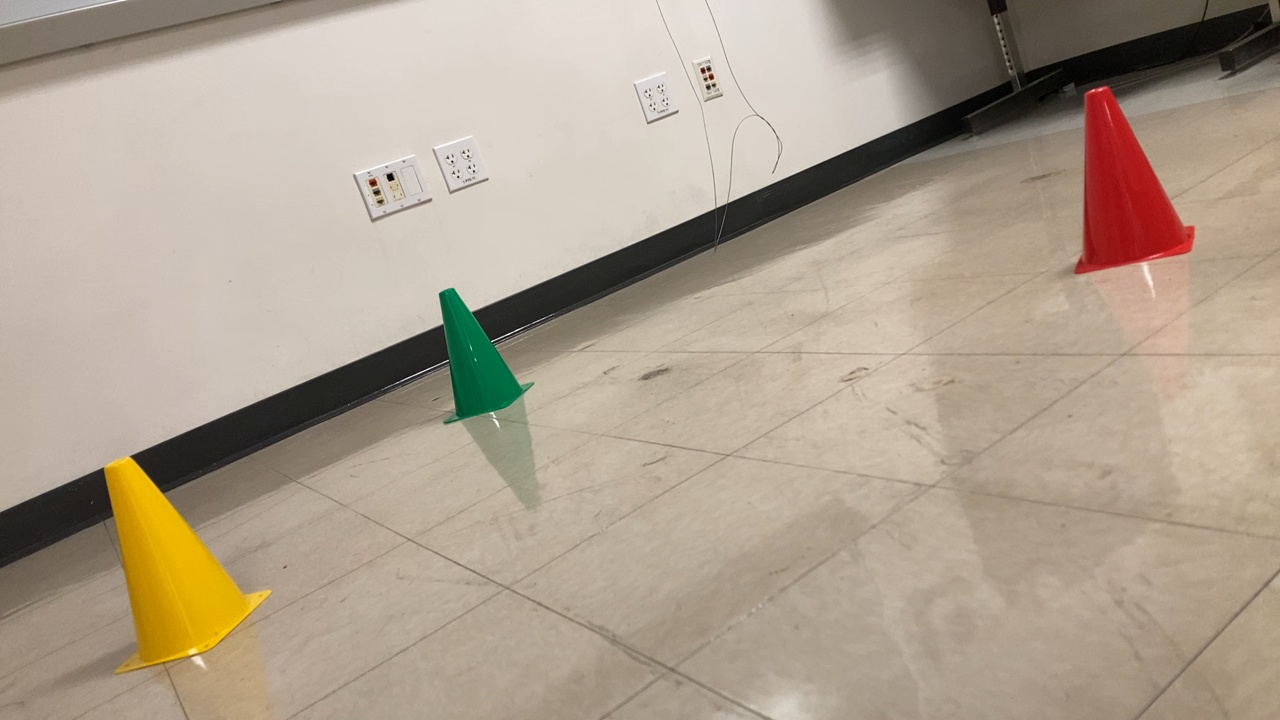green_cone: (422, 281, 539, 431)
red_cone: (1061, 78, 1203, 281)
yellow_cone: (78, 444, 275, 688)
